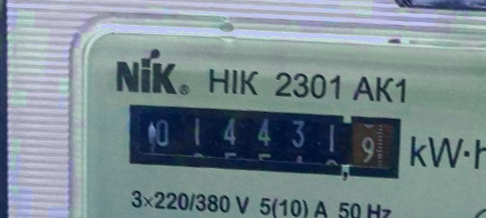0: (150, 116, 174, 151)
1: (187, 114, 208, 149), (324, 122, 340, 155)
3: (287, 119, 309, 152)
4: (218, 114, 242, 149), (253, 115, 274, 150)
9: (357, 133, 377, 166)
screen: (115, 86, 417, 199)
